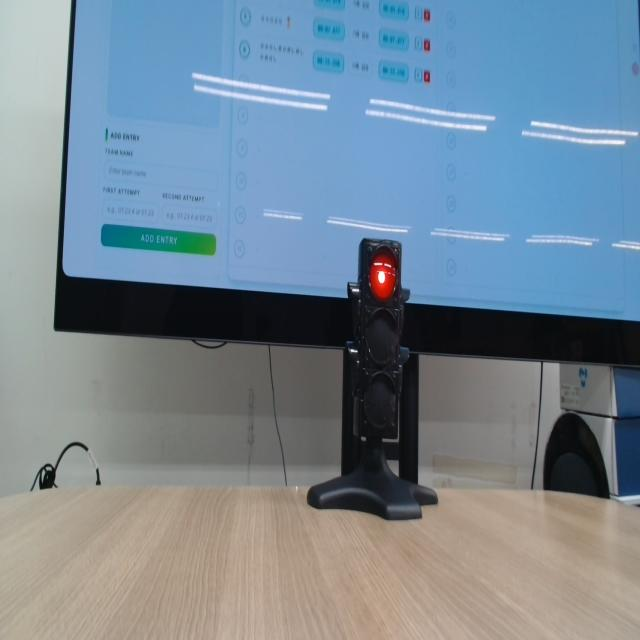red_light: (369, 251, 396, 301)
